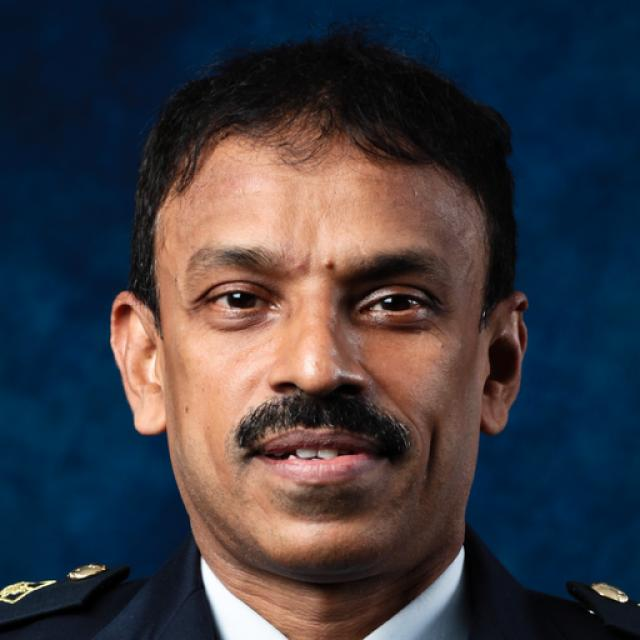Acne: (318, 256, 340, 282), (292, 255, 312, 278), (436, 337, 450, 355)
